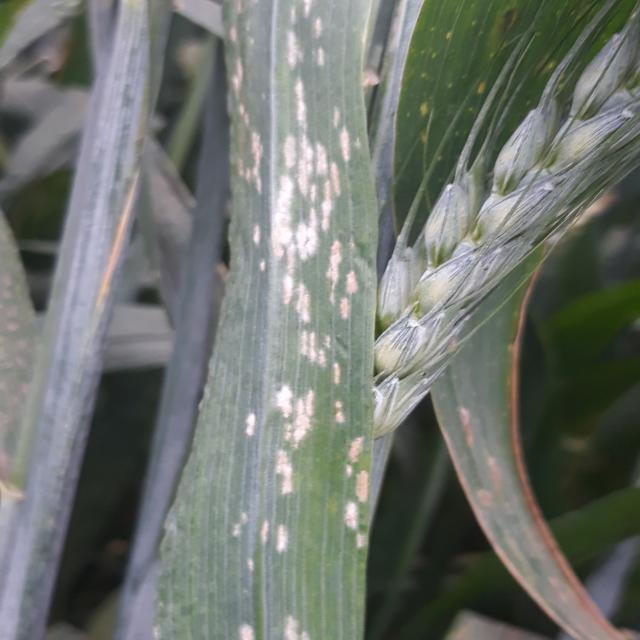powder_mildew: (153, 0, 391, 640), (414, 0, 602, 640)
